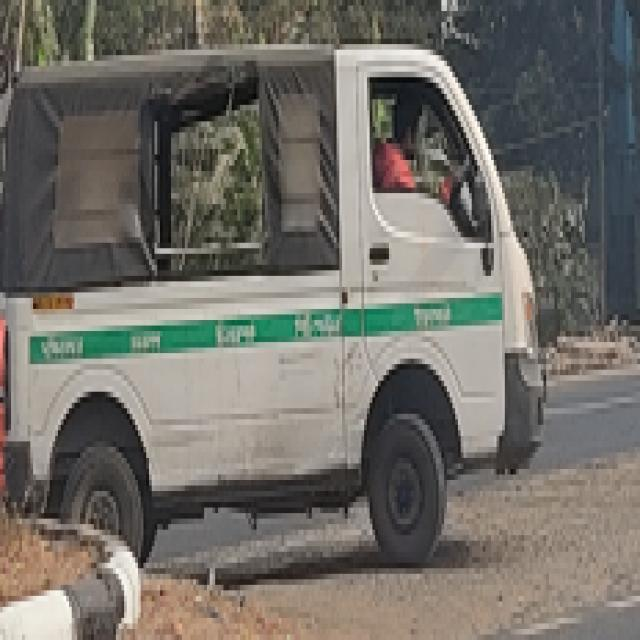van: (0, 34, 552, 565)
